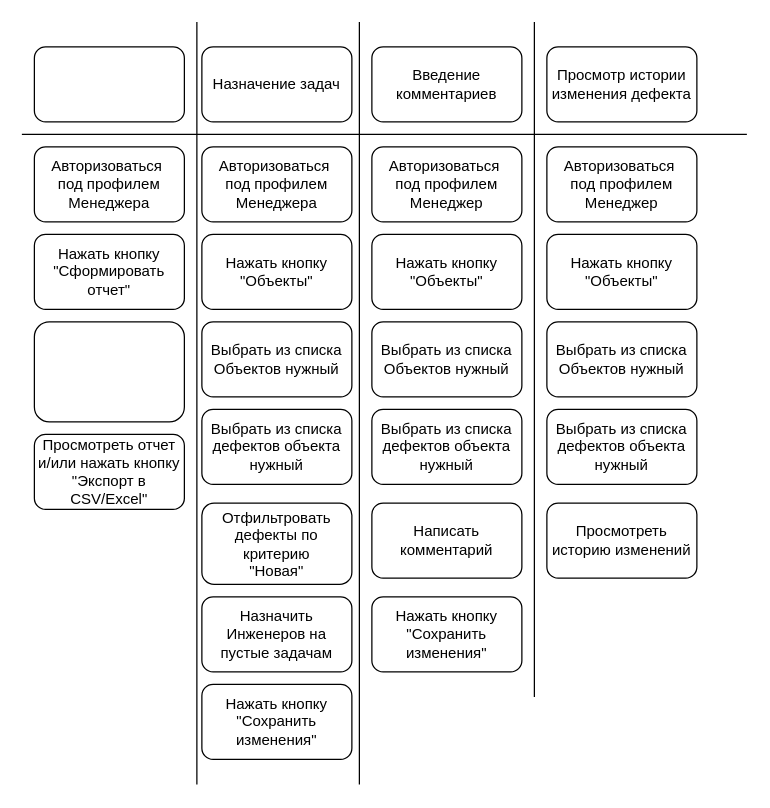
The diagram is 770 pixels wide and 808 high, and some of its shapes have lost their labels. Each missing label, with the box of its shape:
Выбрать по чему сформировать отчет (Инженер, объект, дефект): (33, 321, 184, 422)
Сформировать отчет: (33, 46, 184, 122)
